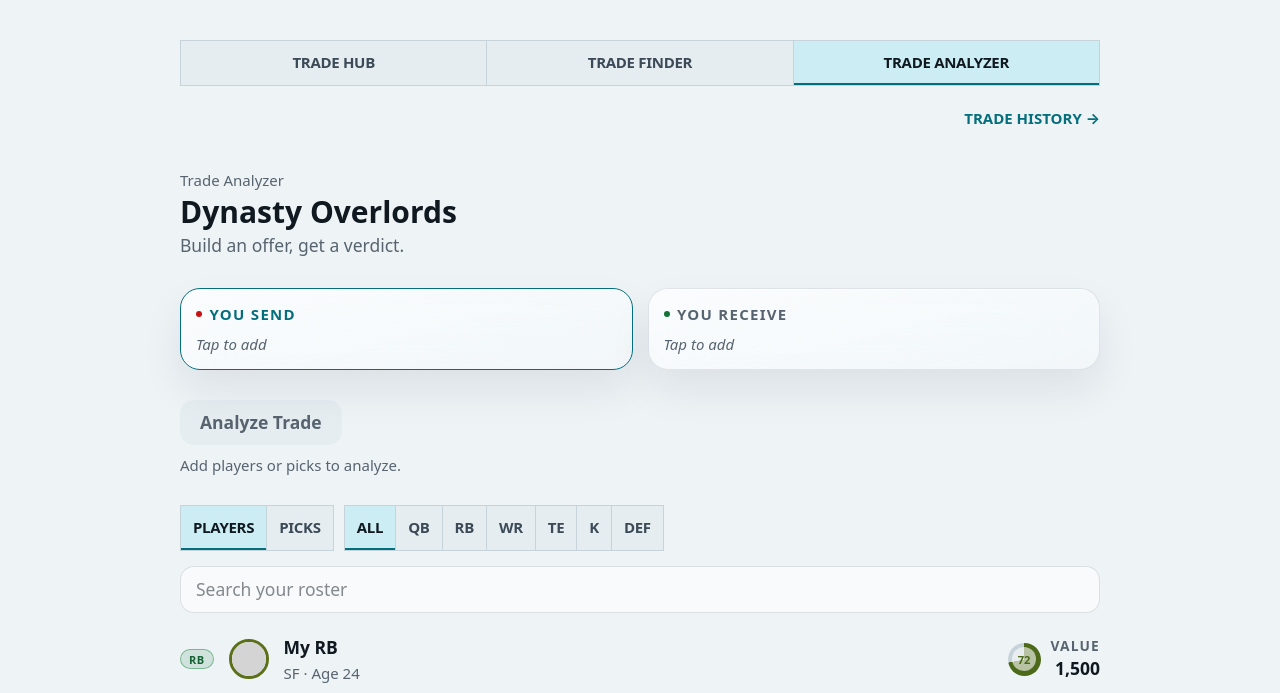
it: TradeAnalyzerContent › shows the limit wall (not the generic error) when the Free weekly limit is hit
This screenshot has width=1280, height=693.
Click the text "My RB" at x=311, y=647, box [284,635,338,659]
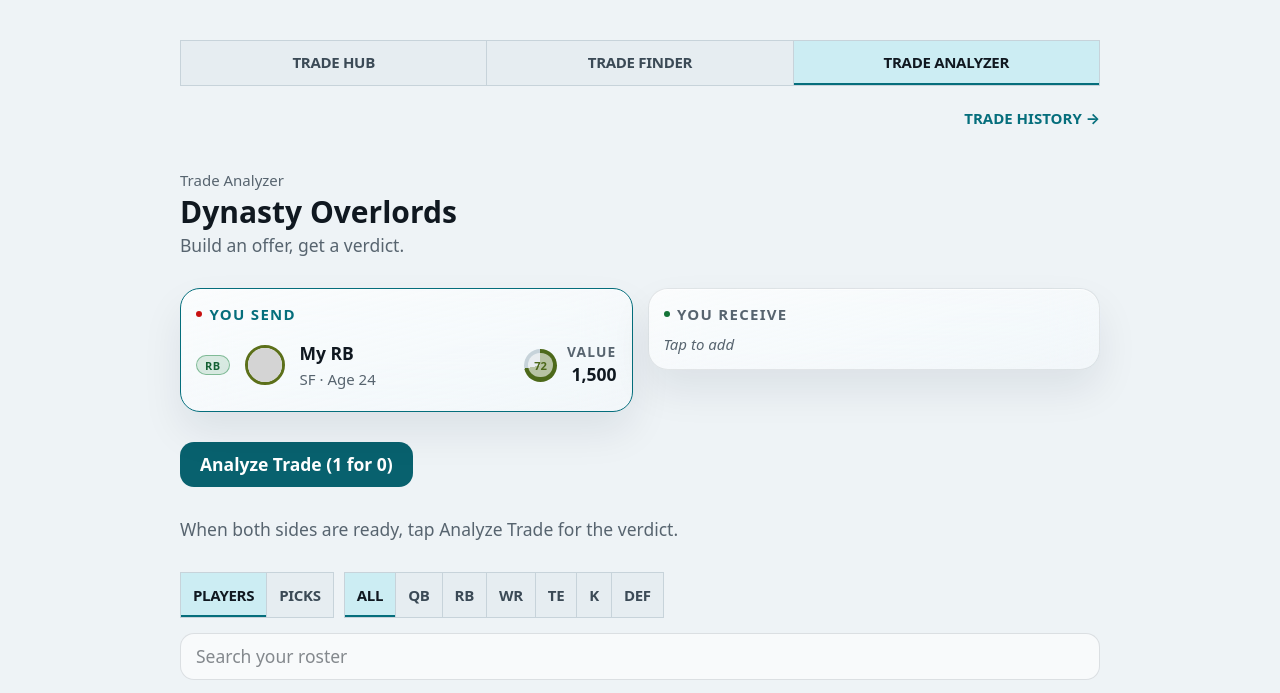
Click the button "You receive" at x=726, y=314, box [664,304,788,324]
(page scrolled)
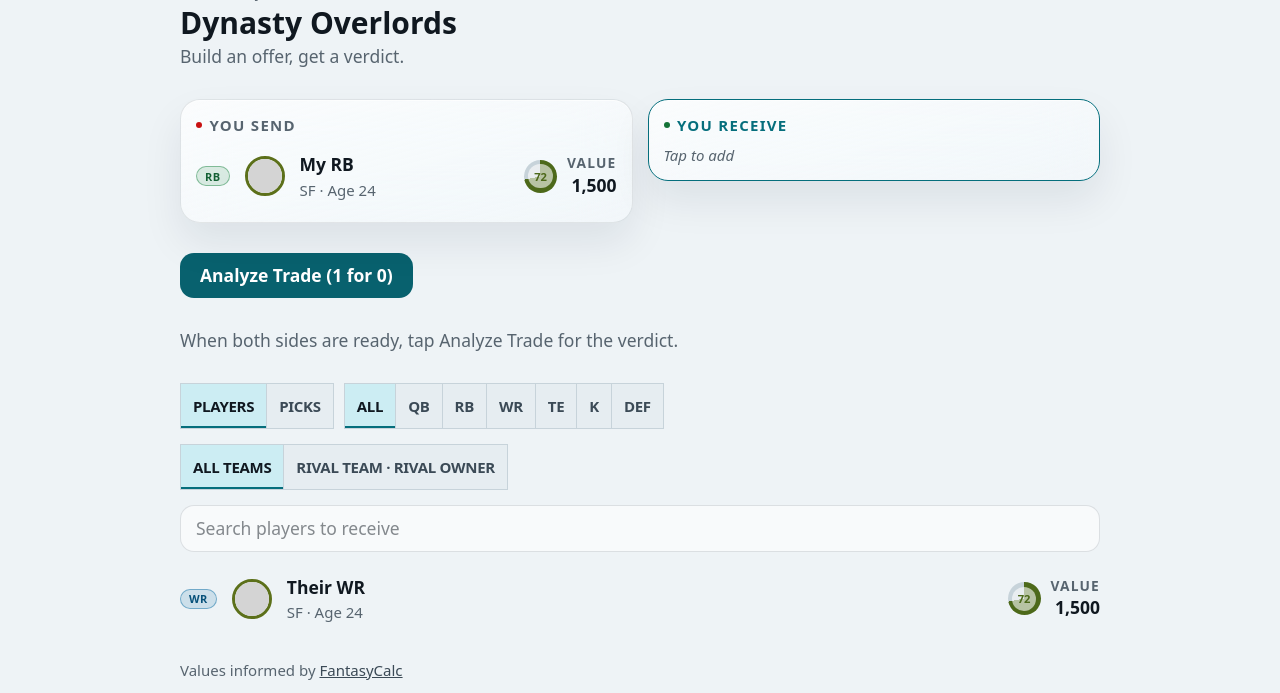
Click the text "Their WR" at x=326, y=588, box [287,575,365,600]
(page scrolled)
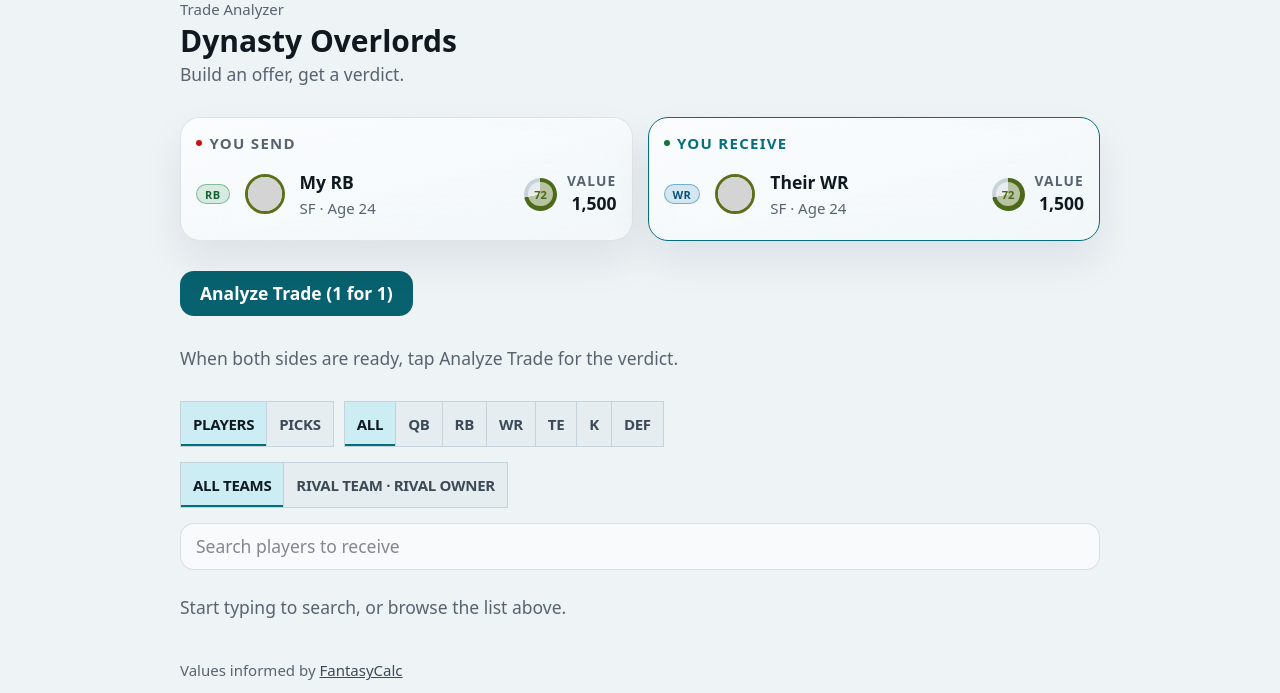
Click the button "Analyze Trade (1 for 1)" at x=296, y=294, box [180,272,413,316]
(page scrolled)
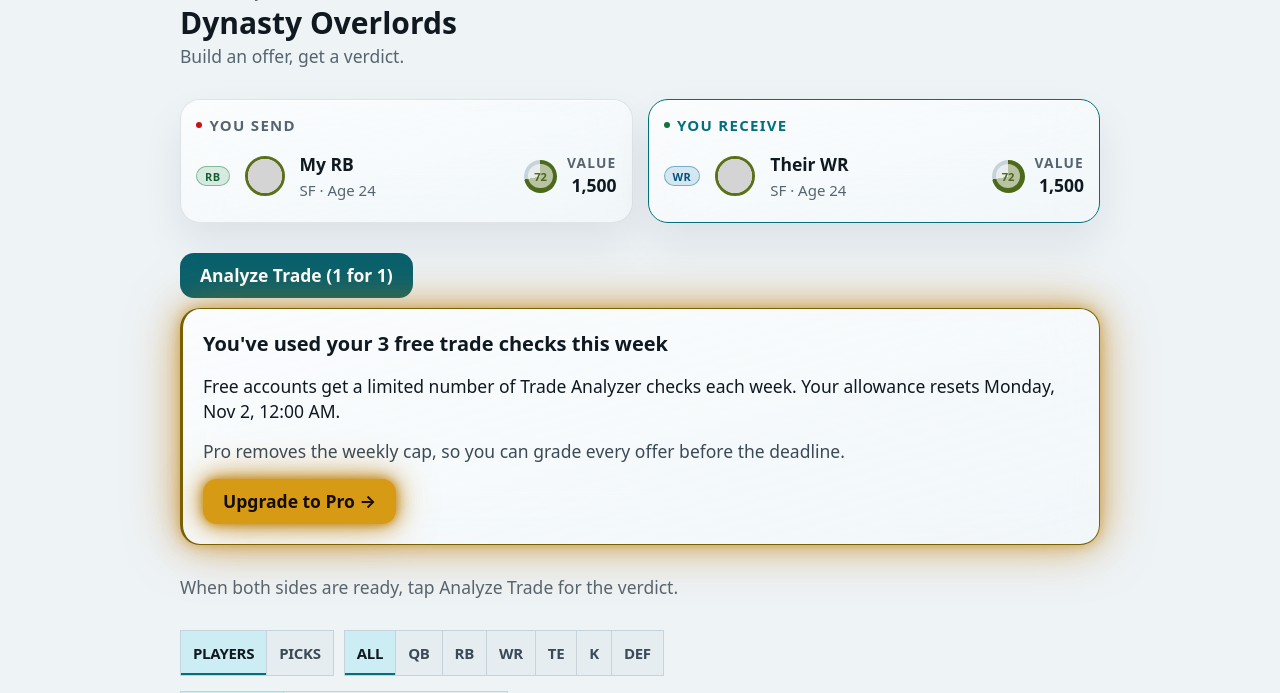
Check: the text "You've used your 3 free trade checks this week" is shown, box [203,330,668,358]
